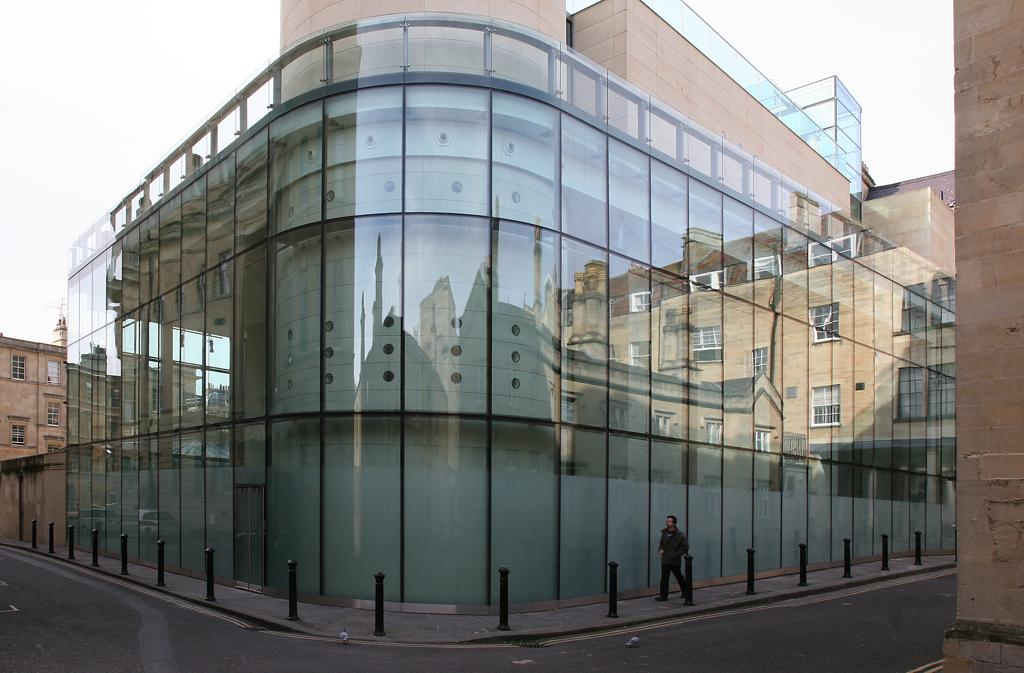face: (666, 517, 673, 527)
